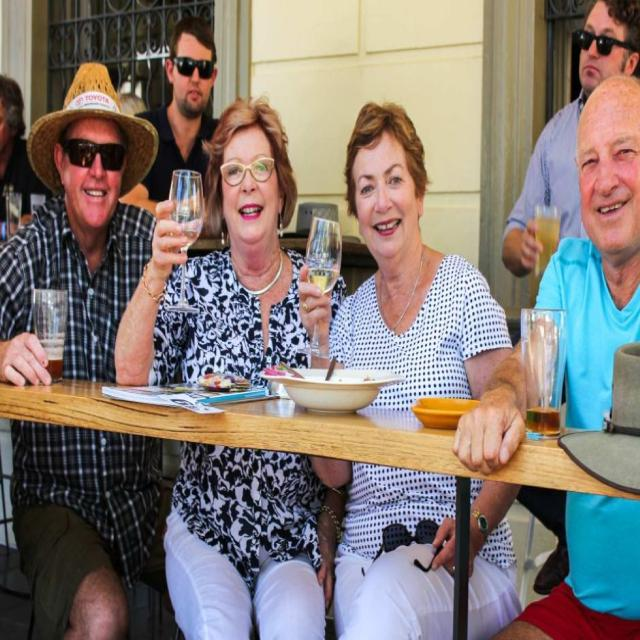body: (111, 92, 354, 639), (293, 95, 525, 639), (450, 72, 640, 639), (0, 59, 180, 637), (496, 0, 639, 609), (117, 13, 232, 241), (0, 70, 55, 246)
